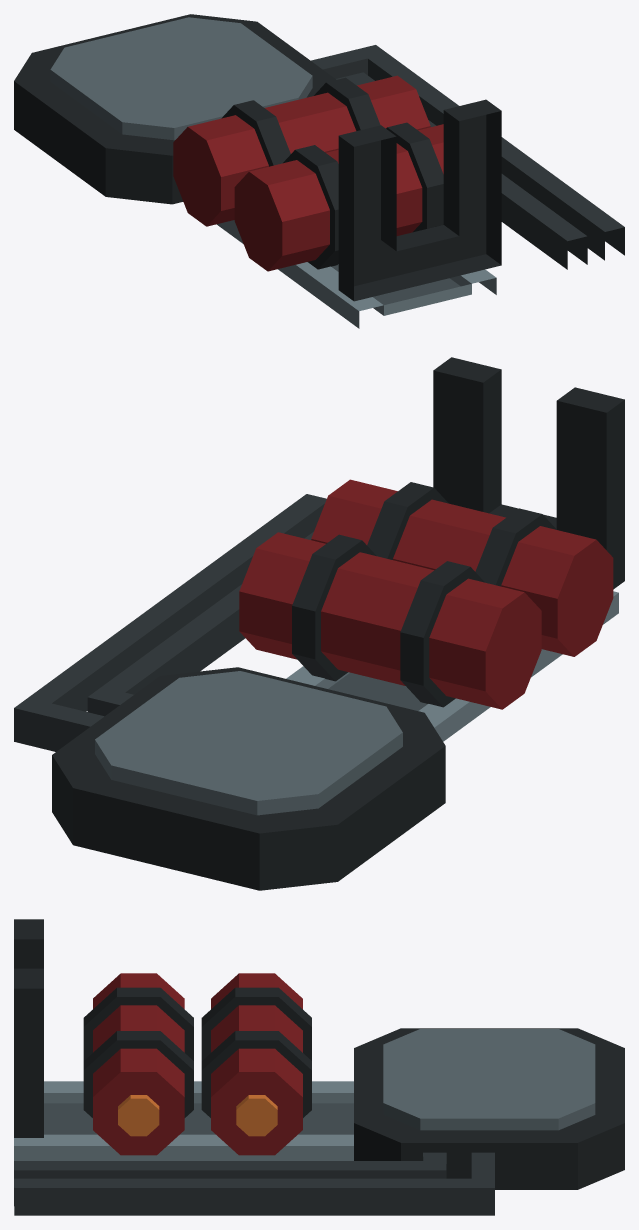
File: Fire Extinguisher 01.FBX
3 views of the same model, one above another, from view 1: azimuth 30°, elevation 25°; view 2: azimuth 150°, elevation 25°; view 3: azimuth 270°, elevation 25° (orthographic). The views are drawn at different scales.
Visible parts, largest first — view 1: Fire Extinguisher 01; view 2: Fire Extinguisher 01; view 3: Fire Extinguisher 01.
Boxes of the visible parts, x1,y1,x2,y2 form: Fire Extinguisher 01: (14,14,624,328); Fire Extinguisher 01: (14,357,624,890); Fire Extinguisher 01: (14,919,624,1215).
Bounding box in the file's own units: 88.37 × 49.03 × 152.
1 material, 1 textured.
